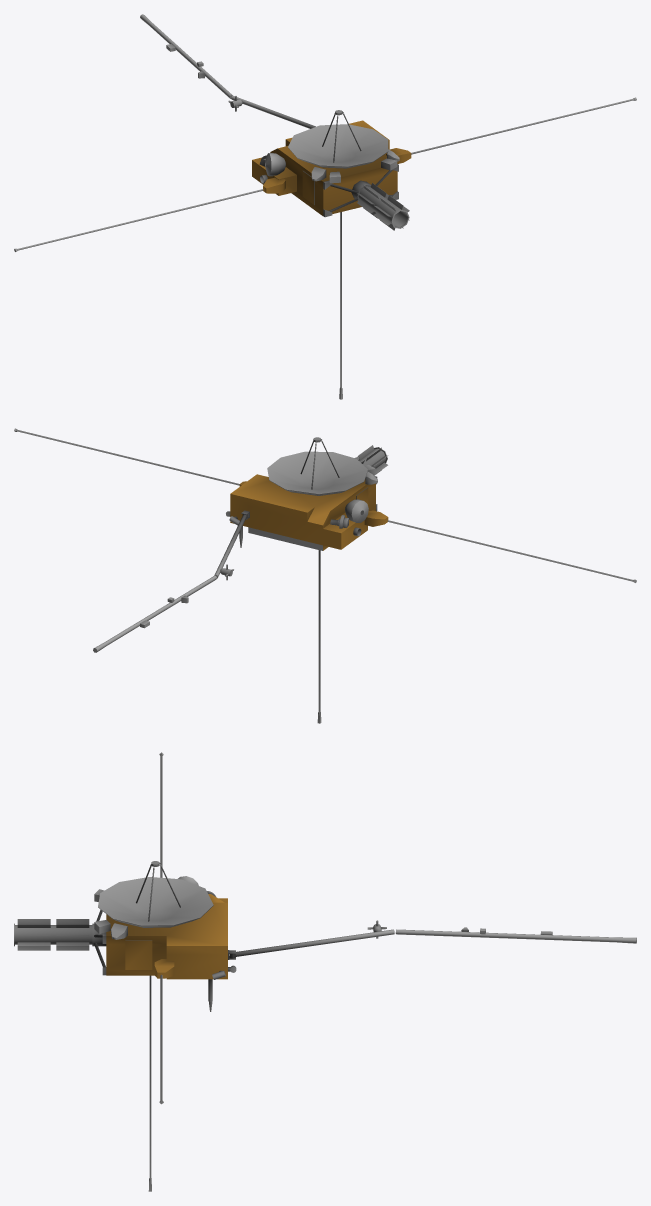
Rendered from space-spacecraft-space-probe_v6.glb.
3 views of the same model, one above another, from view 1: azimuth 30°, elevation 25°; view 2: azimuth 150°, elevation 25°; view 3: azimuth 270°, elevation 25° (orthographic). The views are drawn at different scales.
Visible parts, largest first — view 1: Space Probe_v6.001, Space Probe_v6; view 2: Space Probe_v6.001, Space Probe_v6; view 3: Space Probe_v6.001, Space Probe_v6.
Boxes of the visible parts, bbox=[...] form: Space Probe_v6.001: bbox=[14, 14, 636, 399]; Space Probe_v6: bbox=[252, 120, 411, 215]; Space Probe_v6.001: bbox=[14, 428, 636, 723]; Space Probe_v6: bbox=[230, 474, 388, 550]; Space Probe_v6.001: bbox=[14, 752, 636, 1191]; Space Probe_v6: bbox=[106, 894, 227, 979].
Bounding box in the file's own units: 6 × 2.64 × 4.54.
